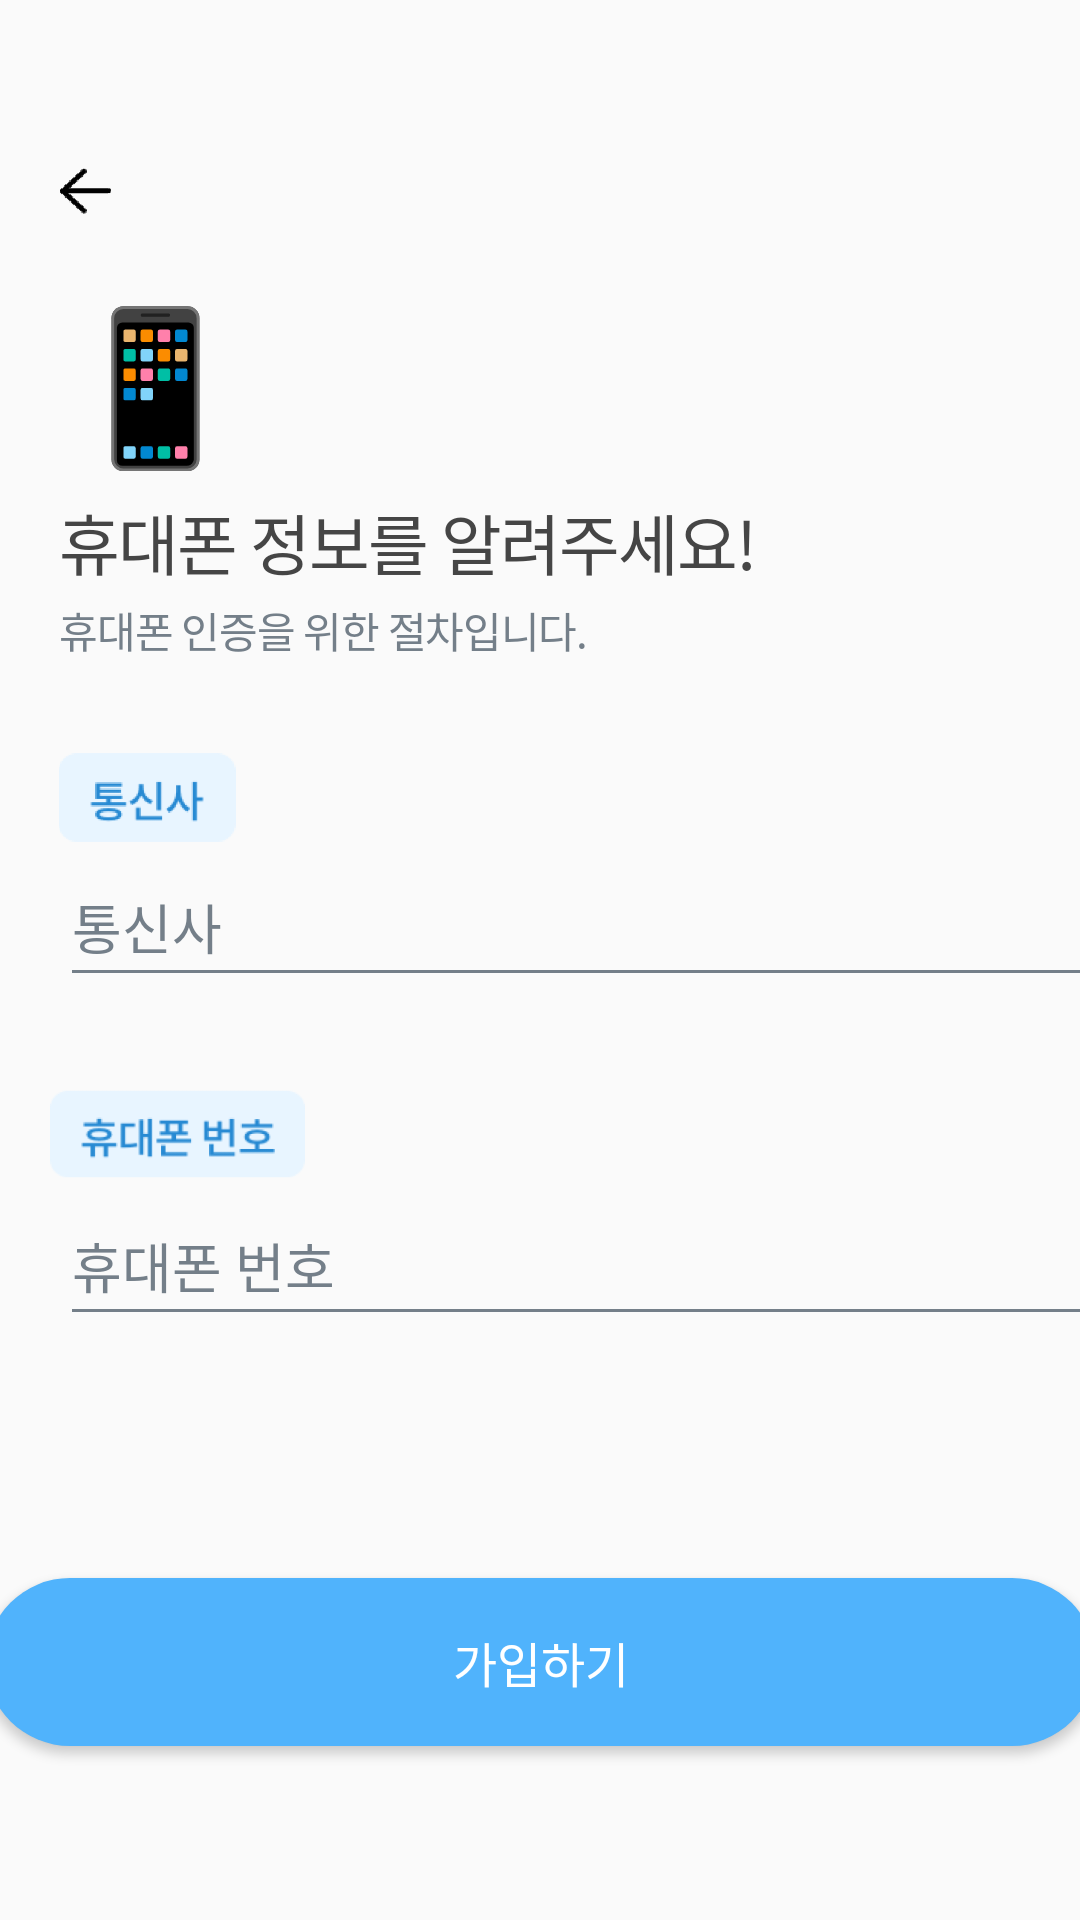

Icon bounding boxes for this 1080 x 1920 phone screenshot, format (x1, y1, x2, y2):
before: (60, 168, 111, 214)
